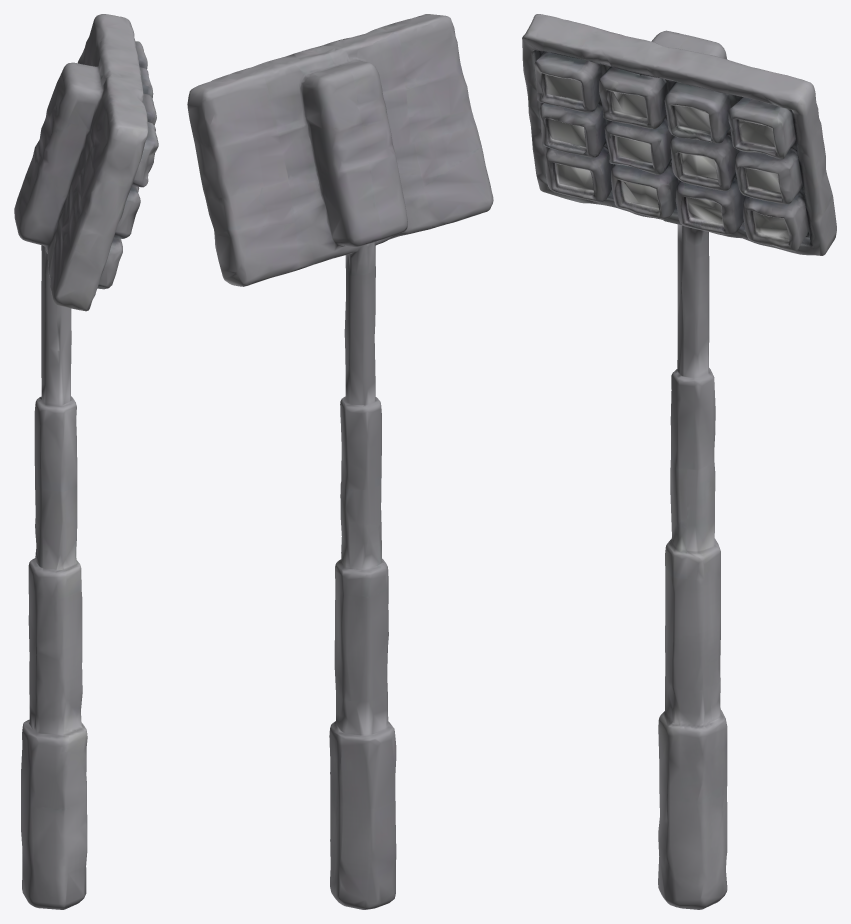
File: flood.glb
The picture shows the model from 3 angles, left to right: view 1: azimuth 30°, elevation 25°; view 2: azimuth 150°, elevation 25°; view 3: azimuth 270°, elevation 25°; orthographic projection. The views are drawn at different scales.
Visible parts, largest first — view 1: tripo_node_f81b77c1-9687-4091-992b-de7a2108760e; view 2: tripo_node_f81b77c1-9687-4091-992b-de7a2108760e; view 3: tripo_node_f81b77c1-9687-4091-992b-de7a2108760e.
Boxes of the visible parts, x1,y1,x2,y2 form: tripo_node_f81b77c1-9687-4091-992b-de7a2108760e: [14, 14, 158, 909]; tripo_node_f81b77c1-9687-4091-992b-de7a2108760e: [187, 14, 493, 909]; tripo_node_f81b77c1-9687-4091-992b-de7a2108760e: [522, 14, 836, 909].
Bounding box in the file's own units: 0.2406 × 0.9998 × 0.3241.
Materials: 1 (1 with a texture image).
